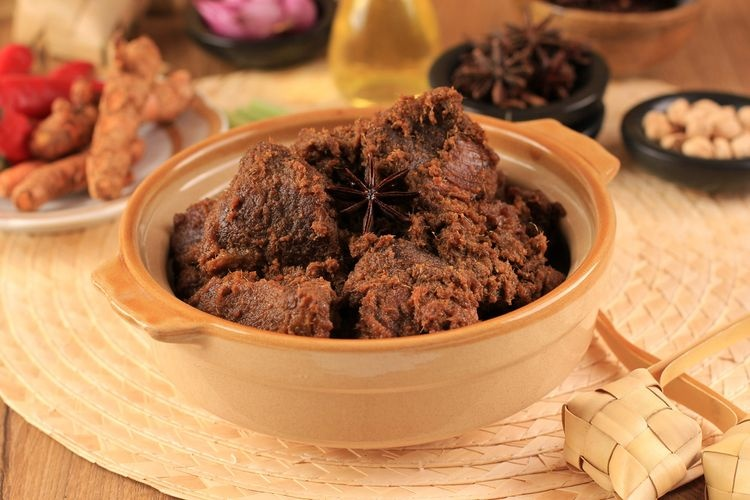rendang: (177, 104, 556, 338)
